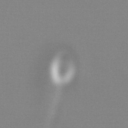normal: (32, 87, 67, 128)
